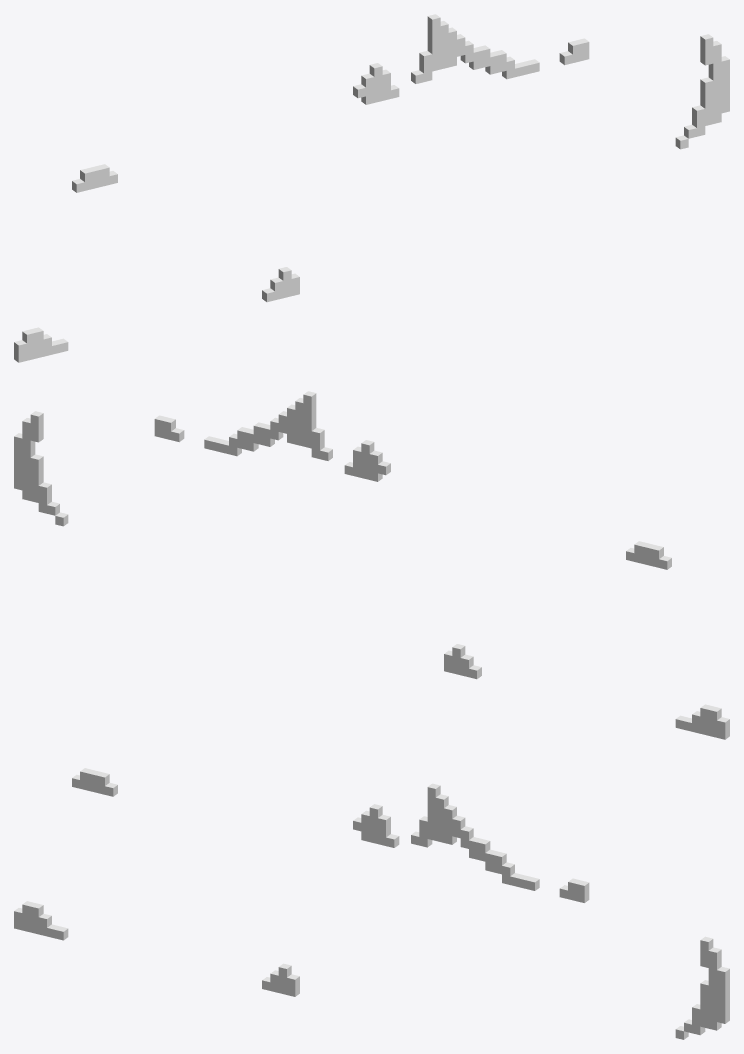
File: Fight_760_2_10_fx.obj
3 views of the same model, one above another, from view 1: azimuth 30°, elevation 25°; view 2: azimuth 150°, elevation 25°; view 3: azimuth 330°, elevation 25° (orthographic).
Size of the model in its own units: 8.6 by 2.8 by 0.1.
